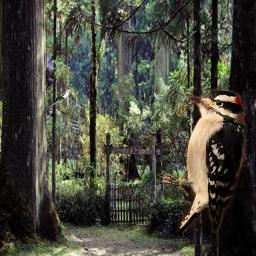Cuckoo: (44, 87, 73, 112)
Woodpecker: (160, 86, 247, 234)
